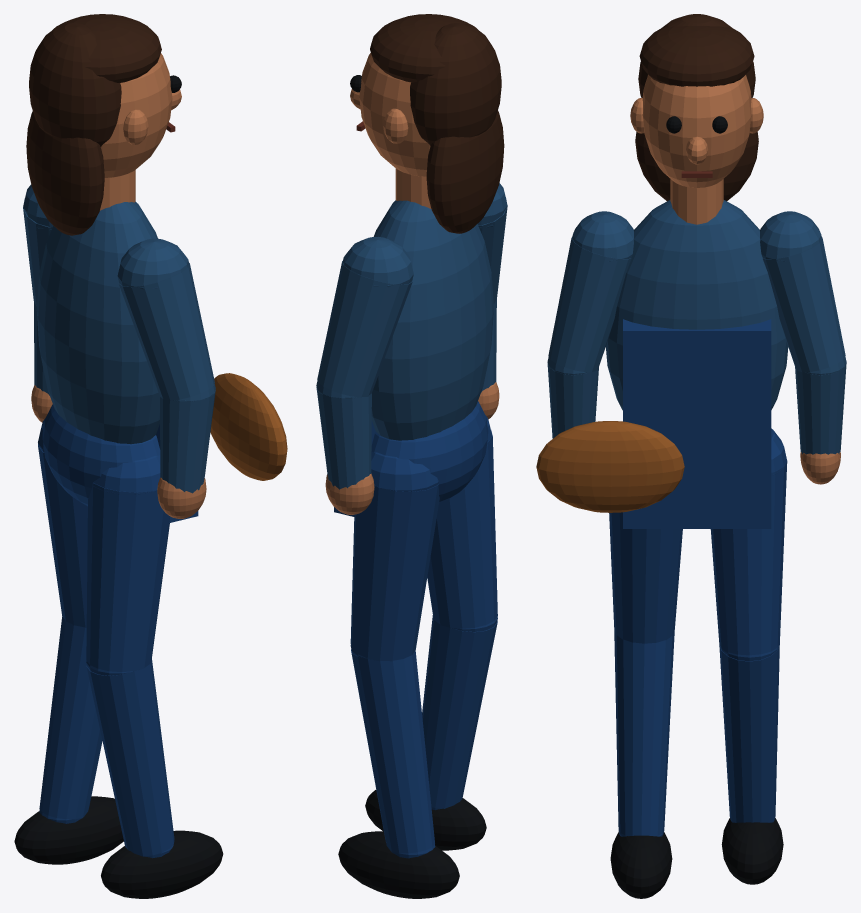
The model's file is person_03.dae.
3 views of the same model, side by side, from view 1: azimuth 30°, elevation 25°; view 2: azimuth 150°, elevation 25°; view 3: azimuth 270°, elevation 25° (orthographic).
Parts seen in each view (by area): view 1: part0node, part2node, part4node, part1node, part3node, part6node; view 2: part0node, part2node, part4node, part1node, part3node; view 3: part0node, part2node, part3node, part6node, part4node, part1node.
Boxes of the visible parts, x1,y1,x2,y2 form: part0node: [38, 404, 198, 858]; part2node: [23, 184, 215, 493]; part4node: [26, 14, 161, 235]; part1node: [14, 75, 223, 898]; part3node: [31, 53, 206, 518]; part6node: [210, 373, 287, 480]; part0node: [334, 401, 497, 858]; part2node: [316, 183, 507, 489]; part4node: [370, 14, 504, 233]; part1node: [338, 75, 486, 898]; part3node: [325, 53, 499, 514]; part0node: [609, 319, 787, 836]; part2node: [547, 200, 846, 454]; part3node: [630, 74, 840, 484]; part6node: [536, 421, 684, 512]; part4node: [635, 14, 758, 201]; part1node: [610, 116, 783, 898].
Size of the model in its own units: 0.033 by 0.05 by 0.15.
